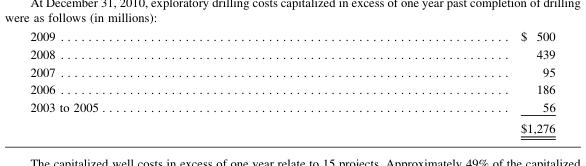table: (29, 28, 554, 135)
table column: (29, 28, 308, 135), (308, 28, 554, 135)
table row: (29, 97, 554, 117), (29, 44, 554, 62), (29, 62, 554, 80), (29, 117, 554, 135), (29, 80, 554, 97), (29, 28, 554, 44)
